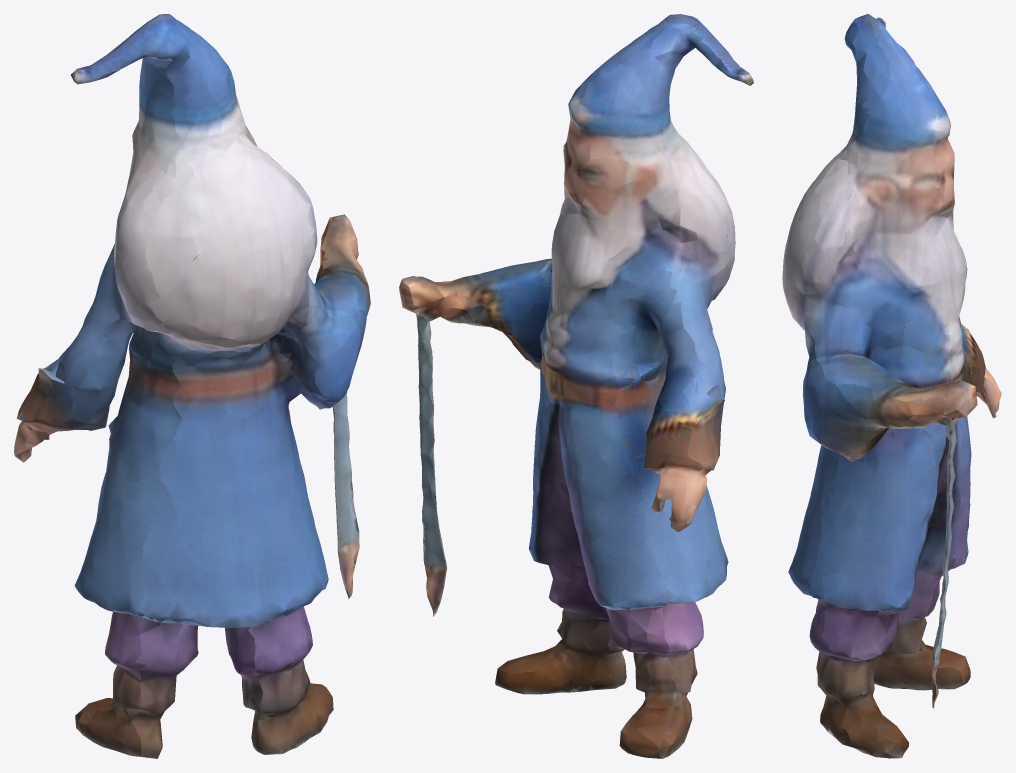
3 views of the same model, side by side, from view 1: azimuth 30°, elevation 25°; view 2: azimuth 150°, elevation 25°; view 3: azimuth 270°, elevation 25° (orthographic). The views are drawn at different scales.
Parts seen in each view (by area): view 1: world; view 2: world; view 3: world.
Part boxes in pixels (x1,y1,x2,y2): world: (14,14,370,758); world: (399,14,753,758); world: (782,14,1001,758).
Size of the model in its own units: 0.4447 by 0.948 by 0.281.
Materials: 1 (1 with a texture image).
